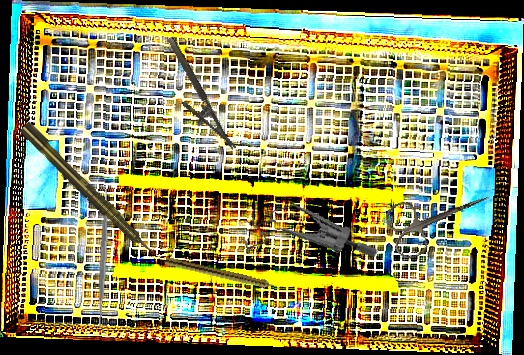Handpiece: (18, 120, 157, 259), (164, 256, 282, 294)
Iris Scissors: (381, 171, 501, 263)
Needle Holder: (151, 35, 237, 161)
Spatula Surgical: (91, 185, 116, 335)
Speculum: (230, 182, 380, 294)
